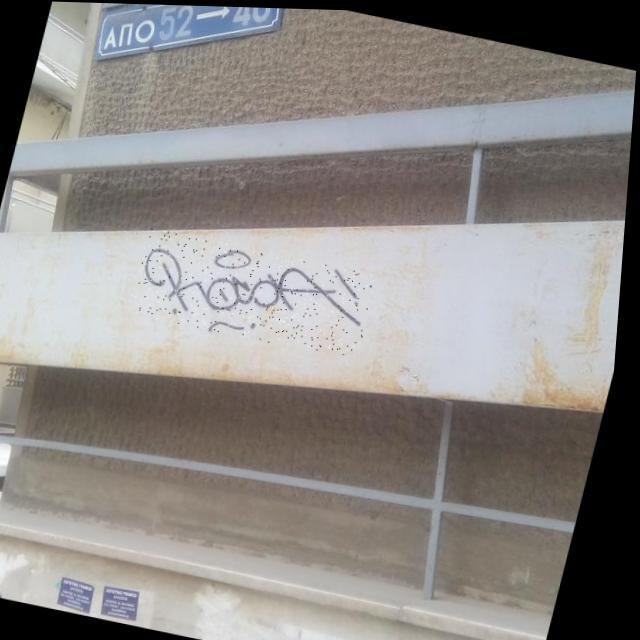-: (128, 226, 384, 359)
